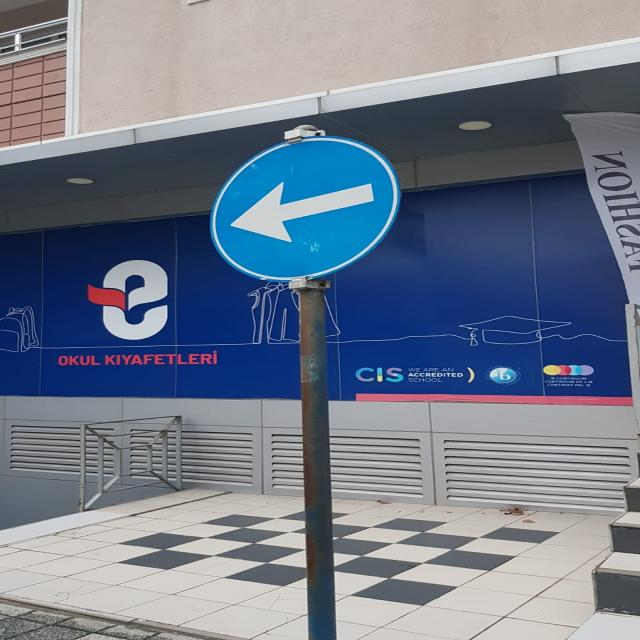Turn Left: (212, 143, 404, 286)
